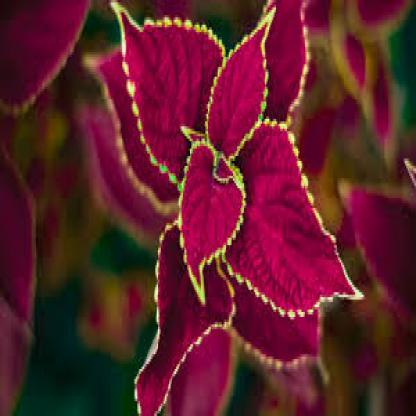Bunga Coleus: (98, 16, 342, 350)
